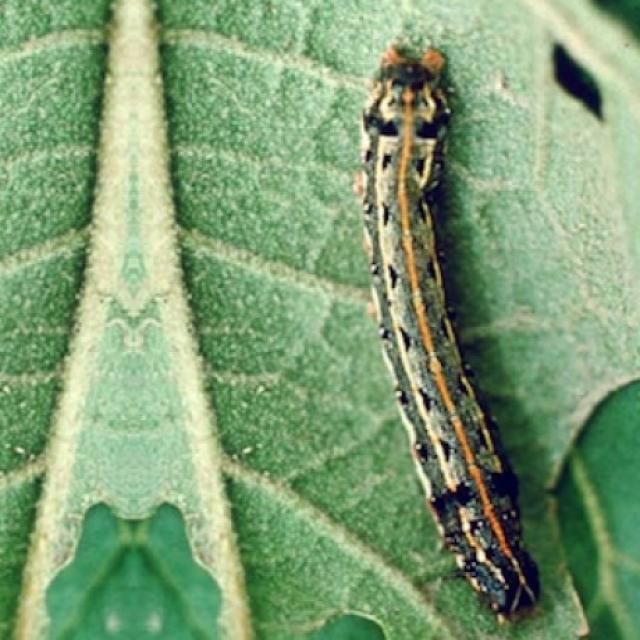Armyworm: (323, 25, 563, 633)
Armyworm_damage: (535, 21, 630, 139)
